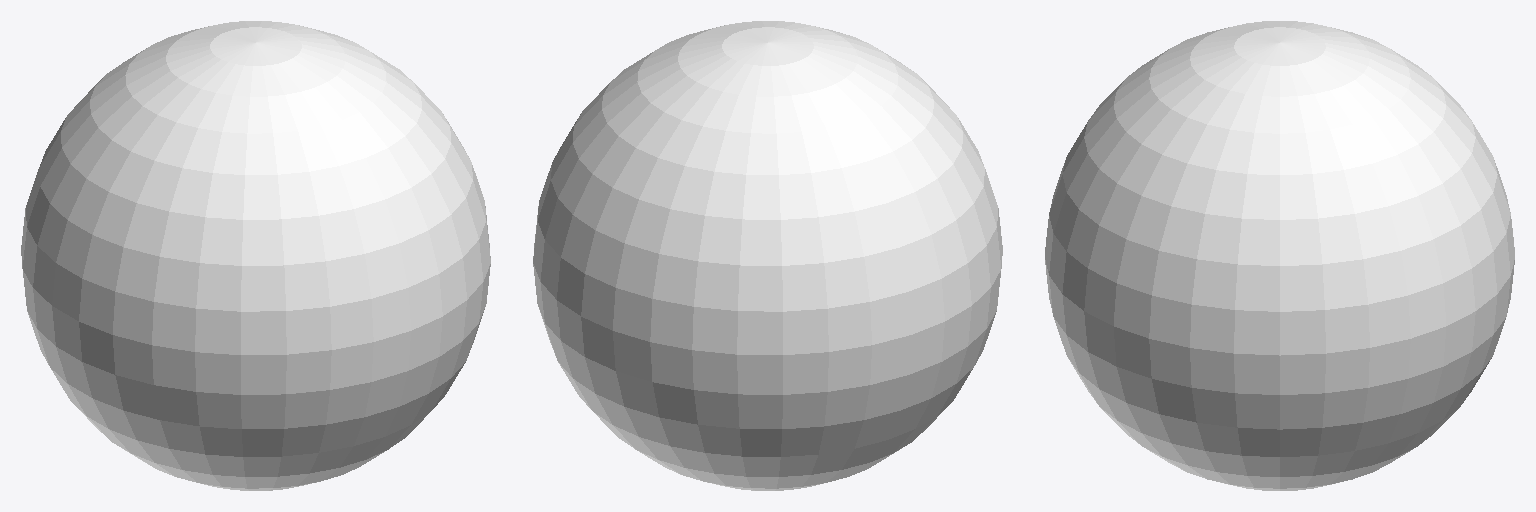
Rendered from fakeSphere.obj.
3 views of the same model, side by side, from view 1: azimuth 30°, elevation 25°; view 2: azimuth 150°, elevation 25°; view 3: azimuth 270°, elevation 25° (orthographic).
Visible parts, largest first — view 1: Sphere_Sphere.001; view 2: Sphere_Sphere.001; view 3: Sphere_Sphere.001.
Part boxes in pixels (x1,y1,x2,y2): Sphere_Sphere.001: (21, 21, 490, 490); Sphere_Sphere.001: (533, 21, 1002, 490); Sphere_Sphere.001: (1045, 21, 1514, 490).
Bounding box in the file's own units: 2 × 2 × 2.